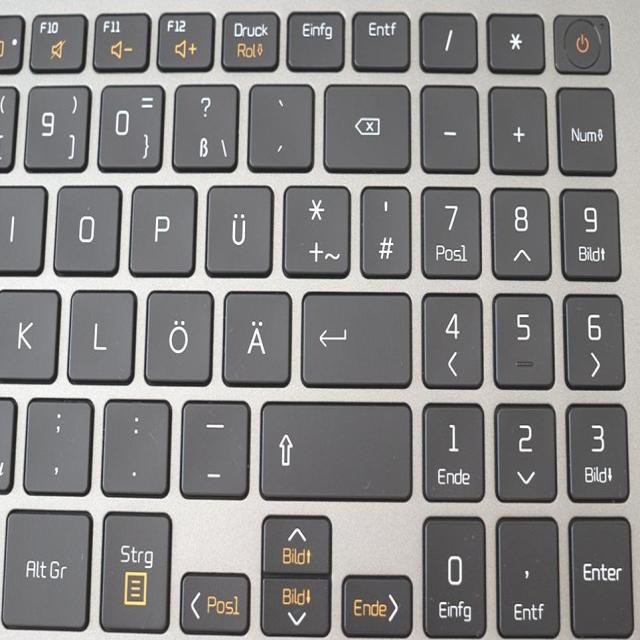0: (94, 79, 165, 170)
9: (20, 80, 90, 170)
accent: (245, 79, 316, 168)
ae: (219, 284, 293, 385)
altgr-right: (1, 505, 93, 632)
comma: (21, 394, 94, 492)
del: (319, 78, 413, 171)
enter: (295, 286, 413, 385)
hash: (357, 181, 412, 277)
i: (0, 179, 46, 272)
k: (0, 283, 59, 382)
l: (64, 284, 137, 383)
minus: (177, 395, 252, 496)
o: (51, 180, 122, 274)
oe: (141, 286, 215, 384)
p: (125, 179, 198, 275)
plus: (281, 181, 352, 277)
point: (99, 395, 172, 493)
shift-right: (252, 396, 414, 500)
ss: (169, 79, 240, 170)
strg-right: (100, 506, 173, 633)
ue: (203, 179, 274, 275)
